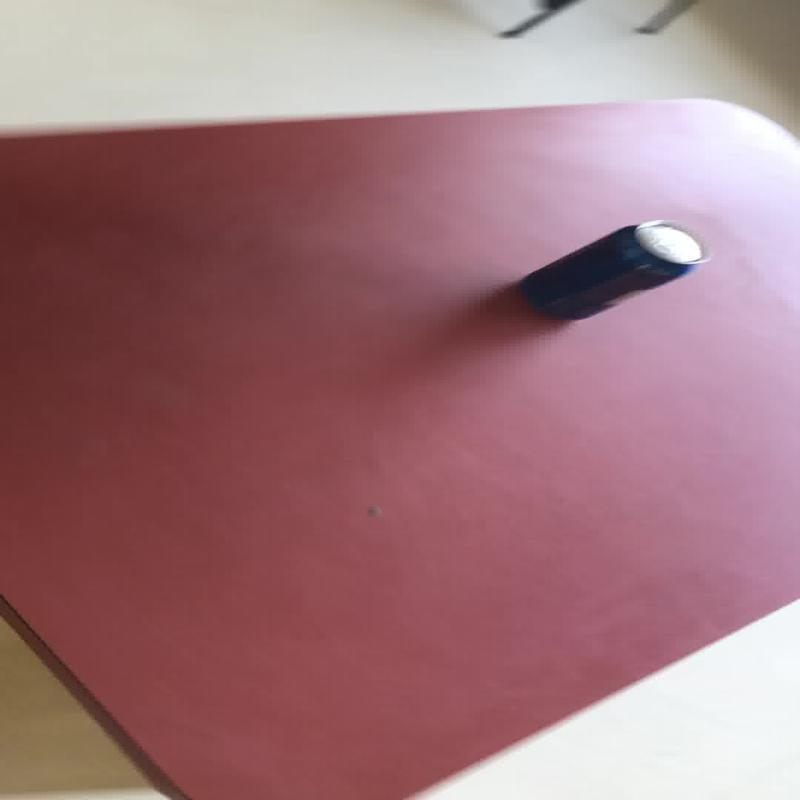tonic: (514, 217, 710, 322)
